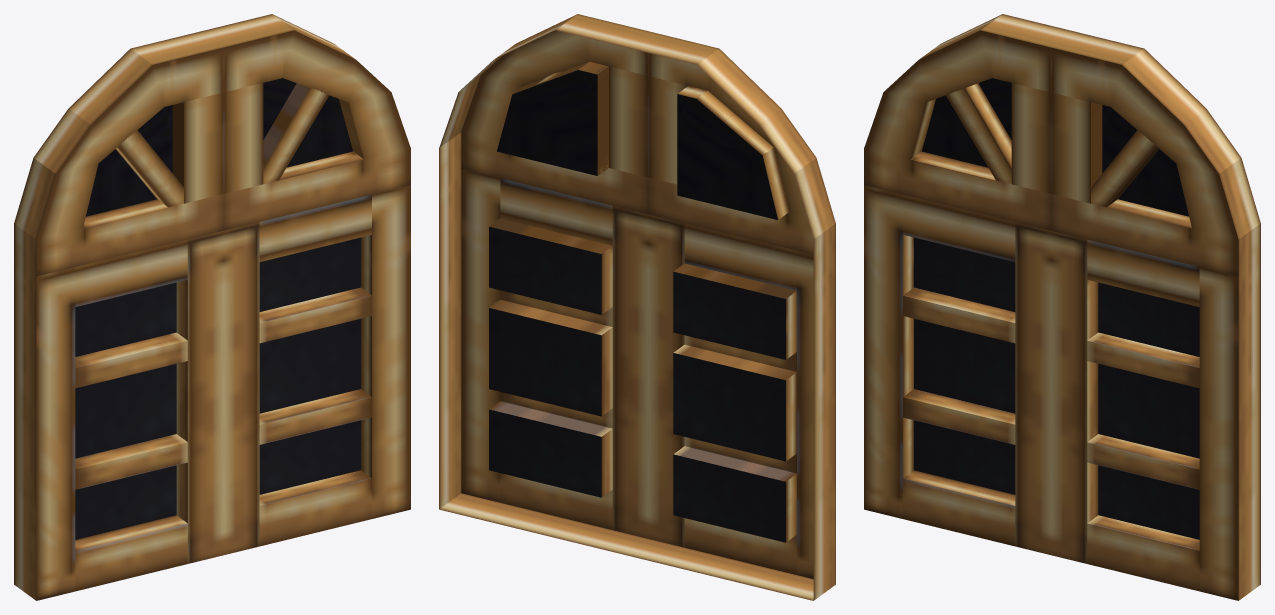
The model's file is Inside_Poly_Window_03_Night.obj.
3 views of the same model, side by side, from view 1: azimuth 30°, elevation 25°; view 2: azimuth 150°, elevation 25°; view 3: azimuth 330°, elevation 25° (orthographic).
Parts seen in each view (by area): view 1: Cube.001_Cube; view 2: Cube.001_Cube; view 3: Cube.001_Cube.
Part boxes in pixels (bbox=[...]): Cube.001_Cube: bbox=[14, 14, 410, 600]; Cube.001_Cube: bbox=[439, 14, 835, 600]; Cube.001_Cube: bbox=[864, 14, 1260, 600].
Bounding box in the file's own units: 0.965 × 1.25 × 0.0997.
1 material, 1 textured.
